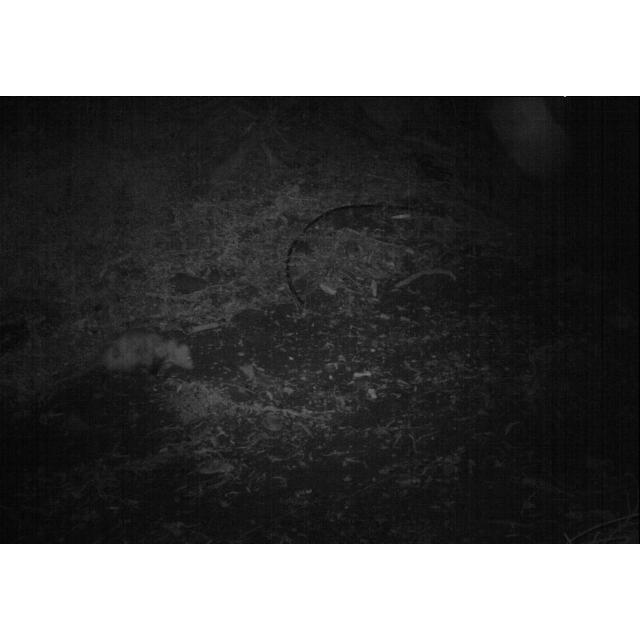animals: (94, 334, 202, 381)
